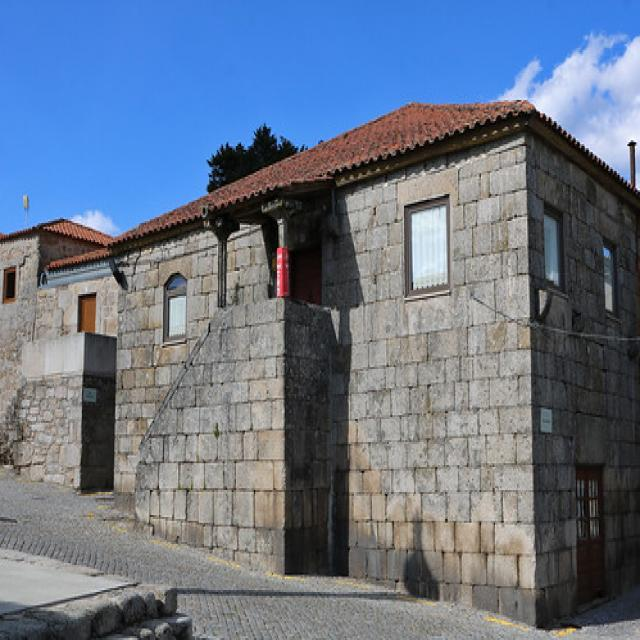Normal_building: (105, 96, 640, 629)
